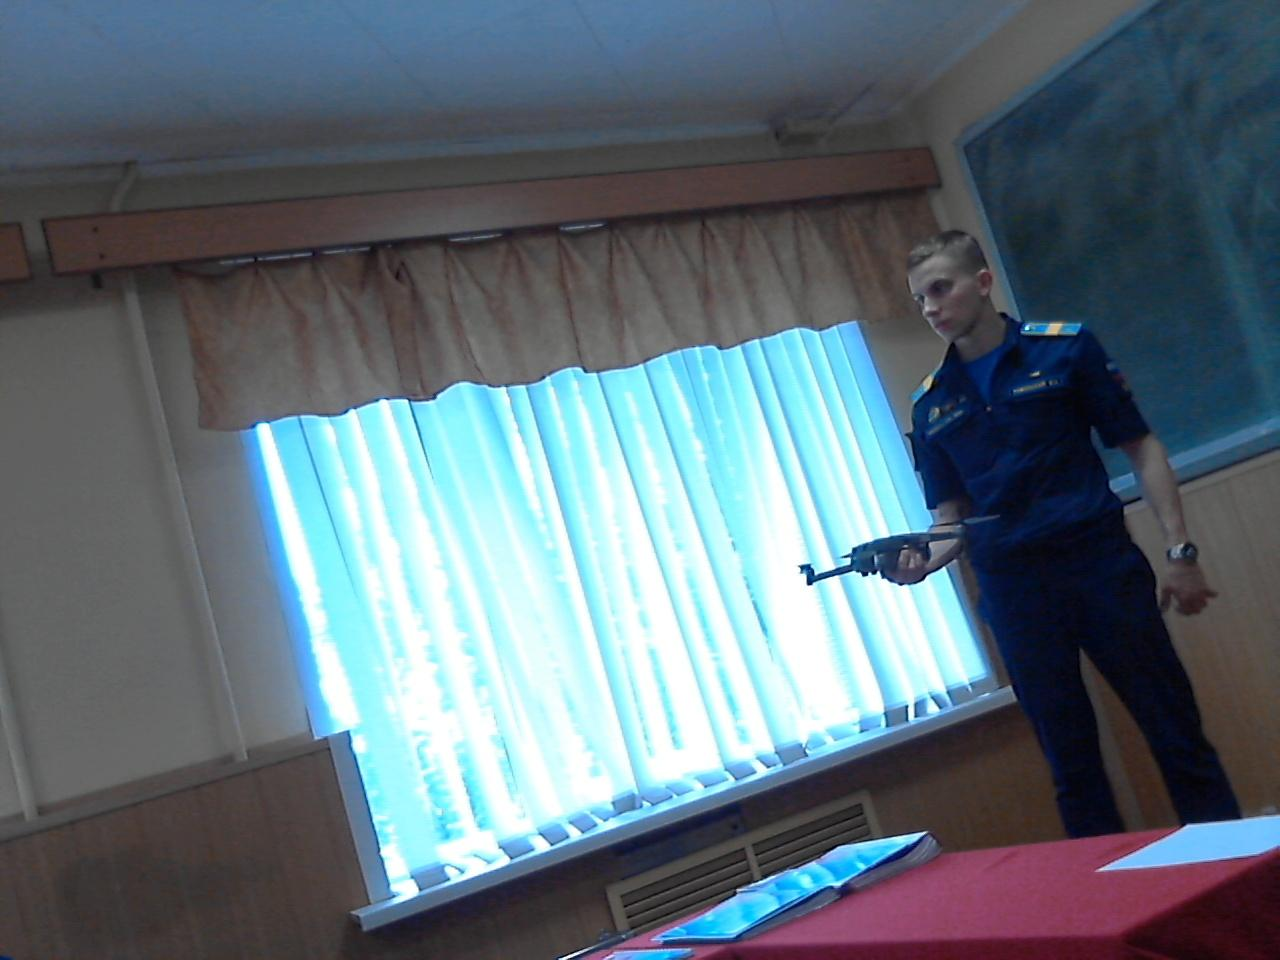drone: (780, 496, 1004, 593)
